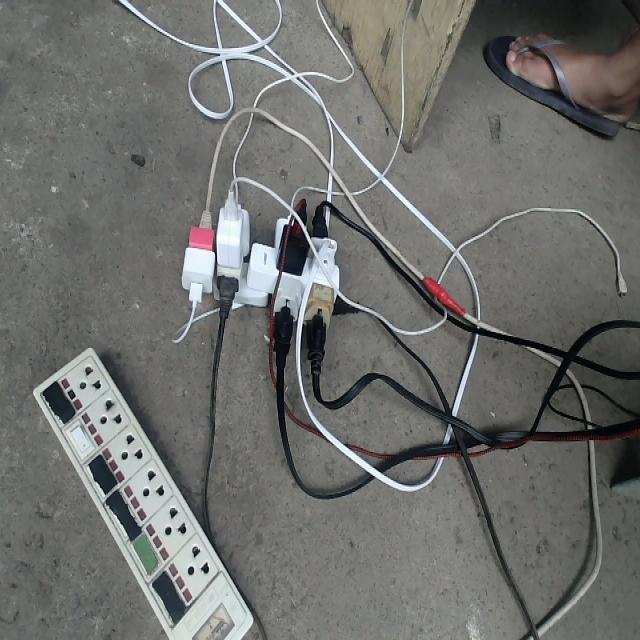-: (181, 181, 362, 375)
